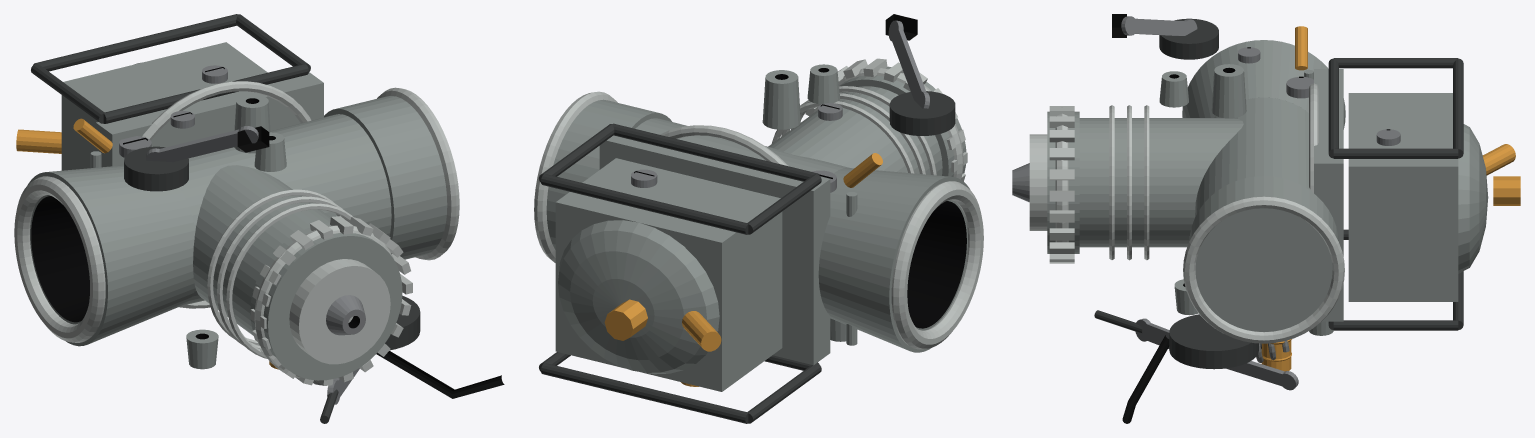
The model's file is carb_04_compact_offroad.obj.
The picture shows the model from 3 angles, left to right: view 1: azimuth 30°, elevation 25°; view 2: azimuth 150°, elevation 25°; view 3: azimuth 270°, elevation 25°; orthographic projection. The views are drawn at different scales.
Parts seen in each view (by area): view 1: flared_bellmouth, main_venturi_body, vertical_slide_tower, rear_outlet_spigot, angular_float_bowl, top_cap_lower, top_cable_boss, rounded_bell_lip, machined_base_plate, flared_bellmouth_inner, rear_outlet_bead, offroad_bowl_guard_lower_rail (+20 smaller); view 2: angular_float_bowl, rounded_bowl_bottom, flared_bellmouth, machined_base_plate, vertical_slide_tower, rounded_bell_lip, flared_bellmouth_inner, offroad_bowl_guard_lower_rail, rear_outlet_spigot, offroad_bowl_guard_side_rail, choke_pivot, rear_outlet_bead (+19 smaller); view 3: angular_float_bowl, rear_outlet_spigot, vertical_slide_tower, main_venturi_body, rear_outlet_bead, flared_bellmouth, machined_base_plate, rounded_bowl_bottom, throttle_pulley_disk, offroad_bowl_guard_rear_drop, top_cap_lower, top_cable_boss (+20 smaller).
Boxes of the visible parts, x1,y1,x2,y2 form: flared_bellmouth: (45,165,195,344); main_venturi_body: (179,114,391,305); vertical_slide_tower: (193,165,330,335); rear_outlet_spigot: (324,96,447,259); angular_float_bowl: (61,42,267,170); top_cap_lower: (250,223,402,380); top_cable_boss: (289,259,390,364); rounded_bell_lip: (14,176,105,342); machined_base_plate: (96,72,323,167); flared_bellmouth_inner: (31,196,89,322); rear_outlet_bead: (377,87,459,260); offroad_bowl_guard_lower_rail: (33,14,237,71); angular_float_bowl: (555,158,782,391); rounded_bowl_bottom: (558,220,719,374); flared_bellmouth: (818,168,951,350); machined_base_plate: (599,135,830,365); vertical_slide_tower: (768,86,942,175); rounded_bell_lip: (891,181,983,349); flared_bellmouth_inner: (907,201,966,328); offroad_bowl_guard_lower_rail: (541,174,748,423); rear_outlet_spigot: (546,99,671,249); offroad_bowl_guard_side_rail: (612,123,819,370); choke_pivot: (889,91,955,135); rear_outlet_bead: (534,91,617,262); angular_float_bowl: (1348,93,1458,301); rear_outlet_spigot: (1189,176,1338,331); vertical_slide_tower: (1079,118,1243,247); main_venturi_body: (1195,97,1311,216); rear_outlet_bead: (1183,196,1344,343); flared_bellmouth: (1182,40,1345,129); machined_base_plate: (1314,69,1343,321); rounded_bowl_bottom: (1458,124,1488,273); throttle_pulley_disk: (1169,314,1258,369); offroad_bowl_guard_rear_drop: (1333,148,1458,330); top_cap_lower: (1047,111,1079,253); top_cable_boss: (1029,134,1047,230).
Size of the model in its own units: 0.1596 by 0.132 by 0.204.
